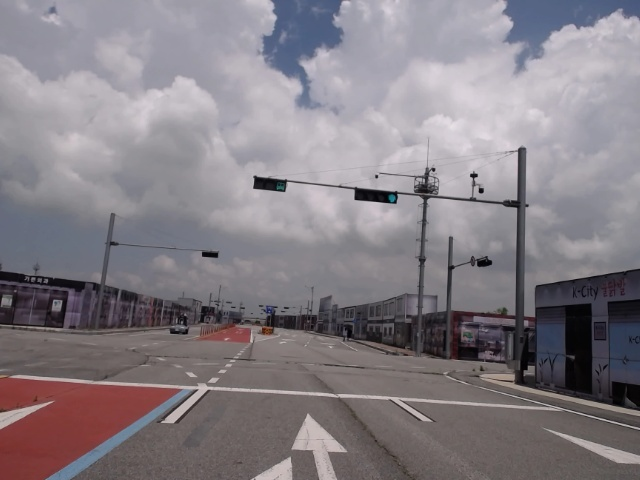straight_green_4: (355, 187, 399, 204)
